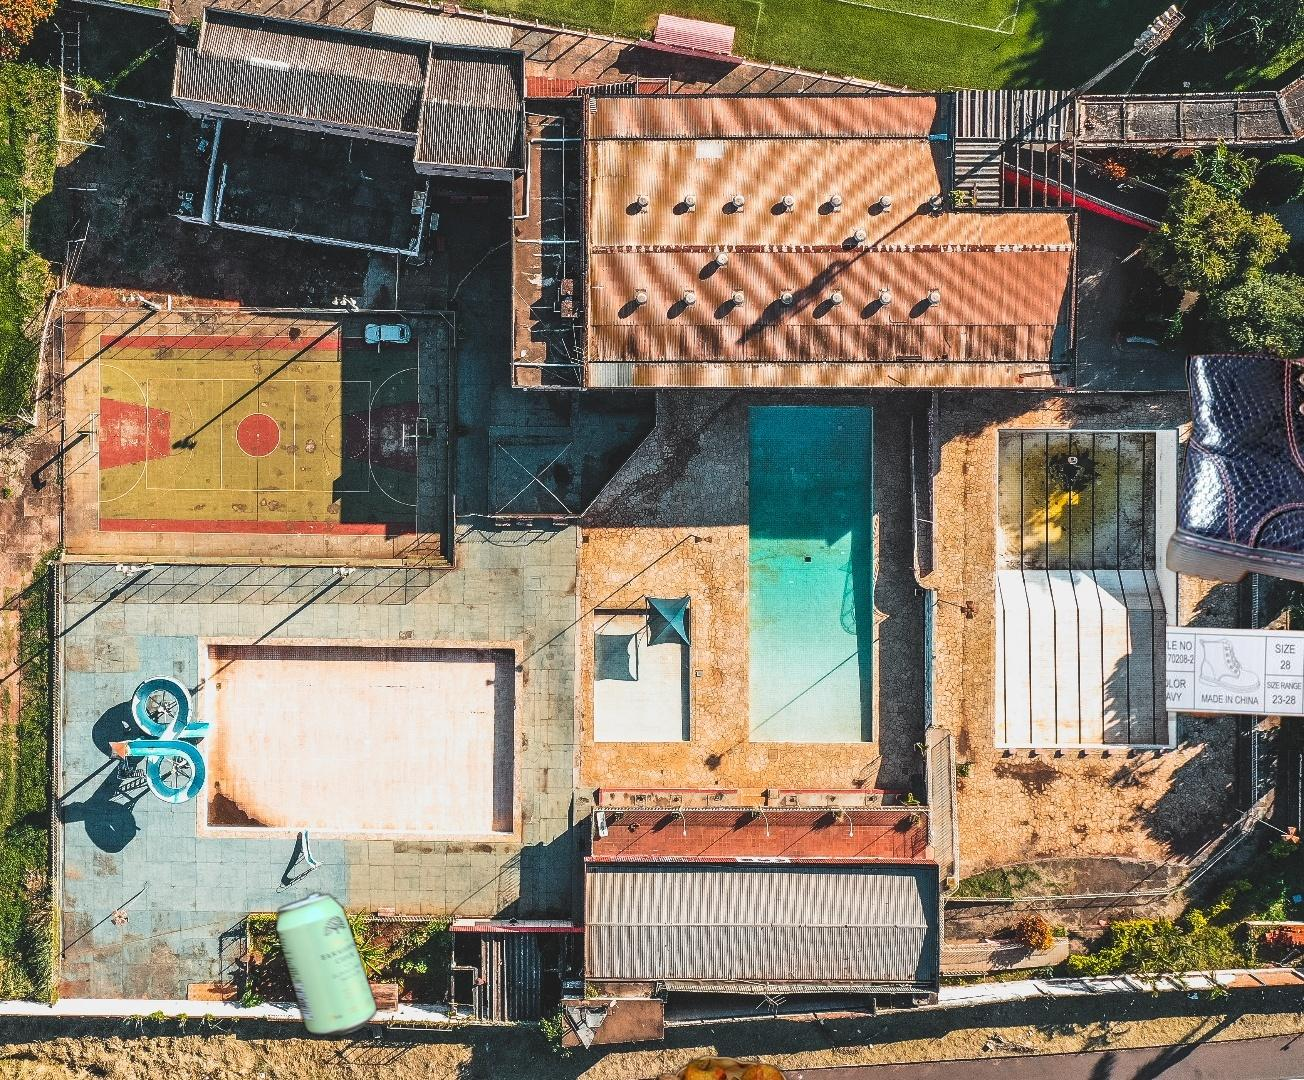biological: (635, 1049, 818, 1080)
metal-cans: (271, 886, 382, 1042)
shoes: (1166, 342, 1304, 721)
